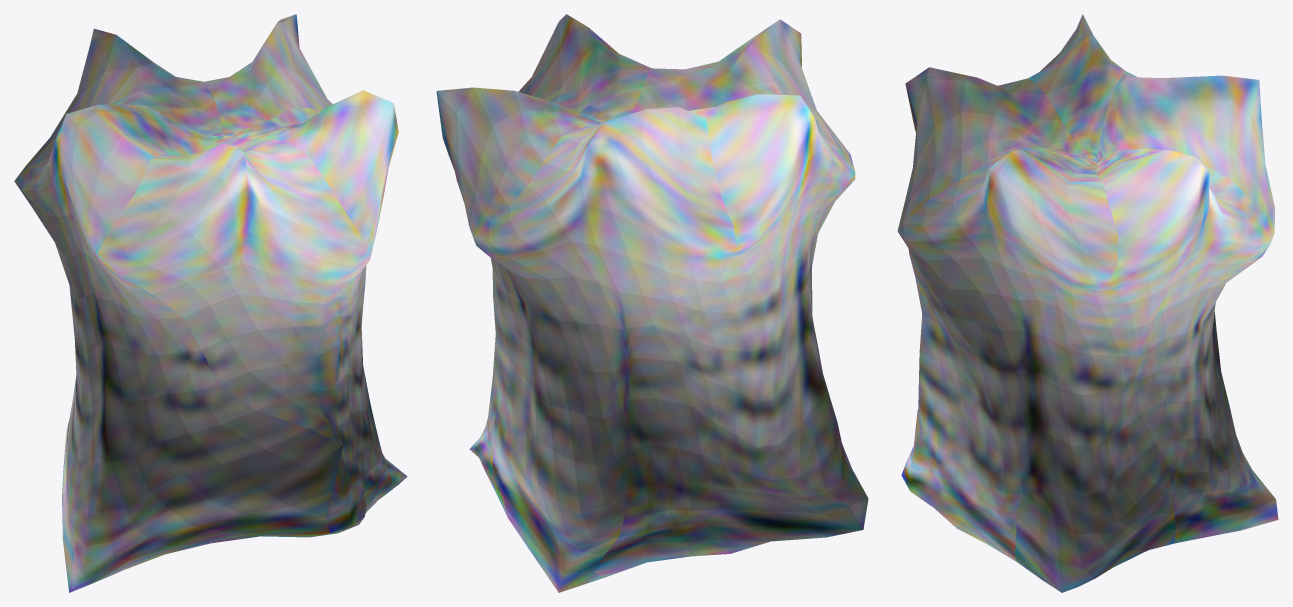
The picture shows the model from 3 angles, left to right: view 1: azimuth 30°, elevation 25°; view 2: azimuth 150°, elevation 25°; view 3: azimuth 270°, elevation 25°; orthographic projection. The views are drawn at different scales.
Parts seen in each view (by area): view 1: pMesh1; view 2: pMesh1; view 3: pMesh1.
Part boxes in pixels (x1,y1,x2,y2): pMesh1: (14,14,407,592); pMesh1: (436,14,868,592); pMesh1: (897,14,1278,592).
Size of the model in its own units: 1.94 by 2.33 by 1.83.
Materials: 1 (1 with a texture image).
